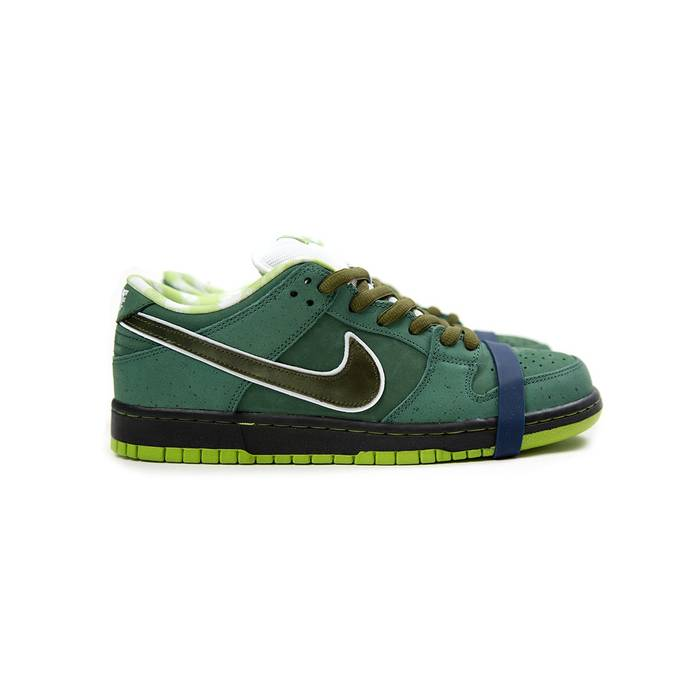Nike SB Dunk Green Lobster: (84, 235, 630, 476)
